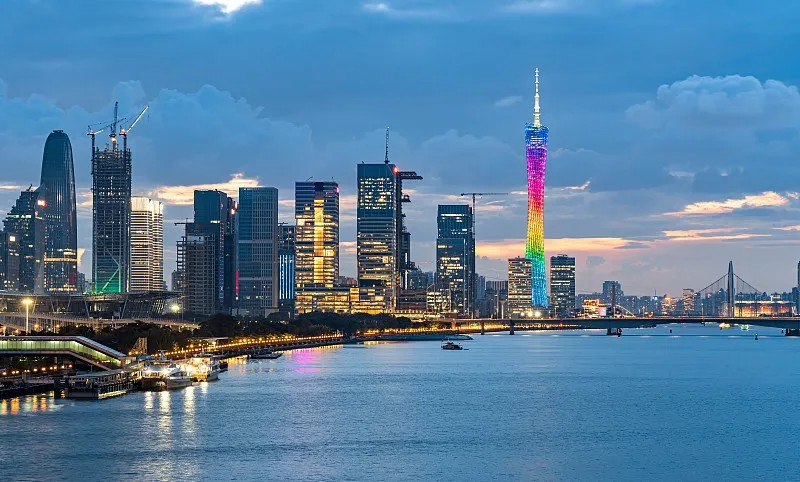Canton: (524, 65, 548, 310)
